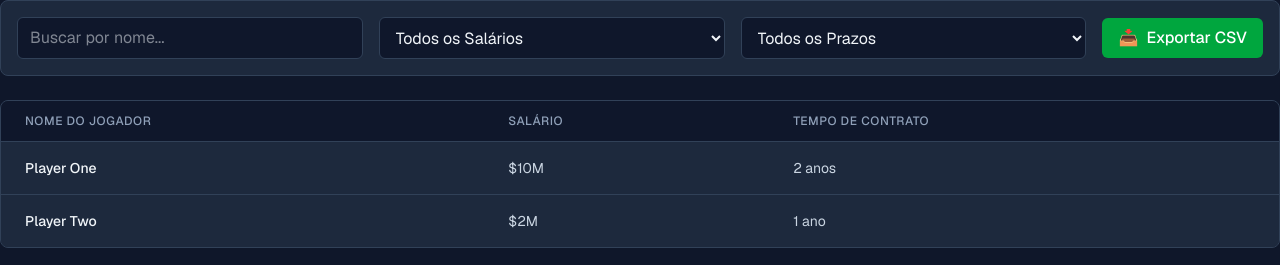
Test case: ActiveContractsReport › filters by search term
In the field with placeholder "Buscar por nome...": (190, 38) [17,17,363,59], type "One"
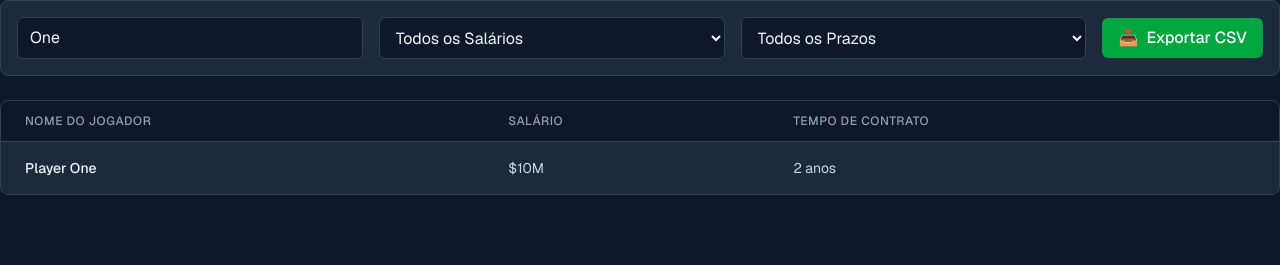
Expected: the text "Player One" is shown, [1,142,484,194]
Result: the text "Player Two" is gone
